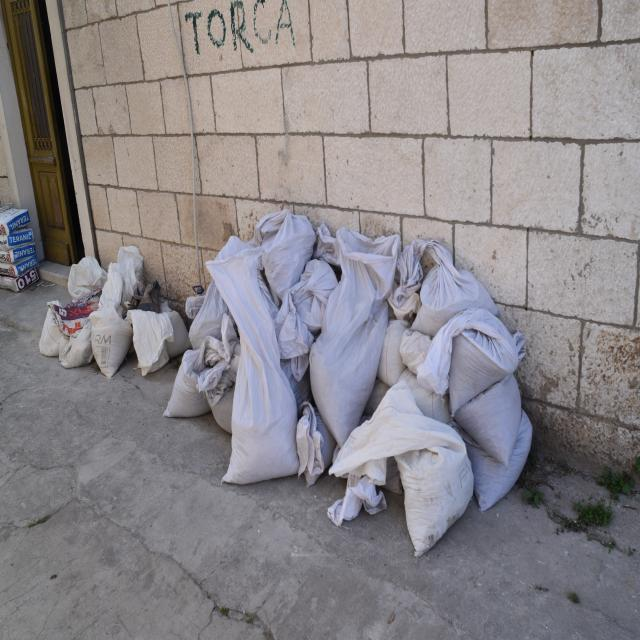entulho: (212, 258, 301, 483), (310, 254, 392, 446), (379, 398, 473, 556), (446, 312, 526, 415), (163, 326, 242, 421), (457, 366, 524, 469), (408, 265, 503, 336), (470, 409, 532, 508), (258, 205, 317, 300), (328, 454, 389, 526), (293, 257, 340, 334), (0, 209, 41, 293), (132, 280, 167, 378), (299, 404, 338, 486), (92, 301, 132, 376), (100, 246, 146, 302), (160, 304, 194, 359), (60, 316, 96, 366), (69, 254, 109, 298), (37, 300, 68, 356)
